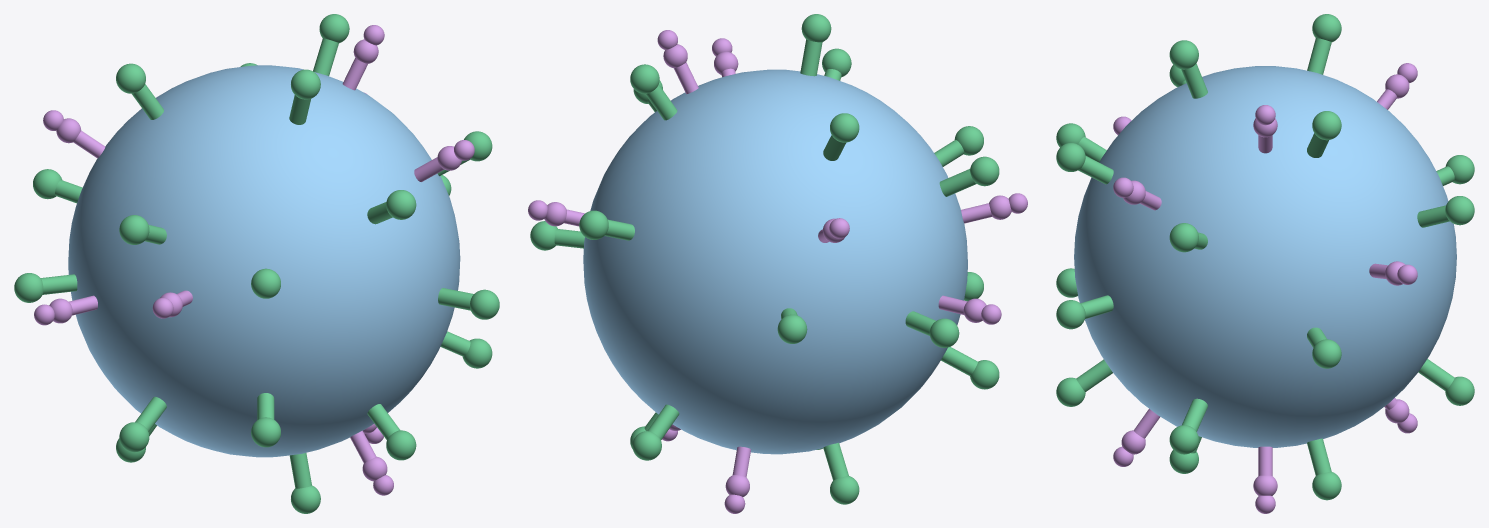
The model's file is helper_t_cell_onshape - Composite part 1.glb.
The picture shows the model from 3 angles, left to right: view 1: azimuth 30°, elevation 25°; view 2: azimuth 150°, elevation 25°; view 3: azimuth 270°, elevation 25°; orthographic projection. The views are drawn at different scales.
Parts seen in each view (by area): view 1: Cell_Body, TCR_15, TCR_05, TCR_13, TCR_01, TCR_14, TCR_09, TCR_10, CD4_03, CD4_04, CD4_08, TCR_07 (+10 smaller); view 2: Cell_Body, TCR_07, TCR_16, TCR_08, TCR_20, TCR_13, TCR_09, CD4_04, CD4_09, CD4_02, TCR_18, TCR_15 (+9 smaller); view 3: Cell_Body, TCR_17, TCR_14, TCR_05, TCR_02, TCR_07, TCR_20, TCR_01, TCR_11, CD4_06, TCR_18, CD4_03 (+12 smaller).
Part boxes in pixels (bbox=[...]): Cell_Body: bbox=[68, 65, 460, 457]; TCR_15: bbox=[14, 273, 77, 302]; TCR_05: bbox=[367, 404, 416, 460]; TCR_13: bbox=[313, 14, 349, 75]; TCR_01: bbox=[438, 288, 499, 319]; TCR_14: bbox=[116, 63, 163, 119]; TCR_09: bbox=[119, 396, 166, 452]; TCR_10: bbox=[289, 453, 320, 513]; CD4_03: bbox=[350, 430, 393, 495]; CD4_04: bbox=[342, 25, 384, 90]; CD4_08: bbox=[43, 110, 105, 158]; TCR_07: bbox=[289, 69, 320, 124]; Cell_Body: bbox=[583, 69, 967, 454]; TCR_07: bbox=[800, 14, 831, 76]; TCR_16: bbox=[823, 442, 859, 504]; TCR_08: bbox=[939, 156, 999, 196]; TCR_20: bbox=[632, 404, 679, 460]; TCR_13: bbox=[630, 64, 677, 120]; TCR_09: bbox=[941, 347, 999, 389]; CD4_04: bbox=[657, 30, 698, 94]; CD4_09: bbox=[724, 446, 750, 513]; CD4_02: bbox=[961, 193, 1027, 223]; TCR_18: bbox=[579, 210, 634, 240]; TCR_15: bbox=[905, 311, 959, 347]; Cell_Body: bbox=[1074, 66, 1456, 447]; TCR_17: bbox=[1307, 438, 1341, 500]; TCR_14: bbox=[1307, 14, 1341, 74]; TCR_05: bbox=[1056, 359, 1112, 406]; TCR_02: bbox=[1056, 143, 1113, 184]; TCR_07: bbox=[1169, 40, 1207, 98]; TCR_20: bbox=[1418, 359, 1474, 405]; TCR_01: bbox=[1056, 295, 1113, 329]; TCR_11: bbox=[1169, 398, 1207, 454]; CD4_06: bbox=[1253, 446, 1277, 513]; TCR_18: bbox=[1417, 196, 1474, 227]; CD4_03: bbox=[1113, 409, 1159, 466].
Bounding box in the file's own units: 0.0393 × 0.0372 × 0.0328.
